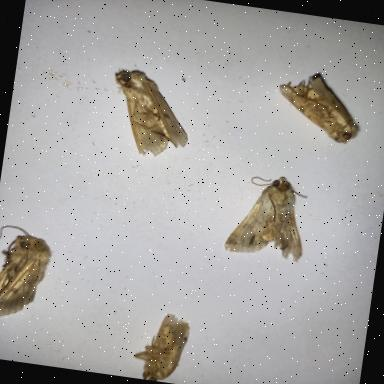abw: (102, 66, 195, 160), (221, 168, 313, 262), (272, 70, 365, 146), (0, 223, 54, 328), (130, 309, 192, 384)
